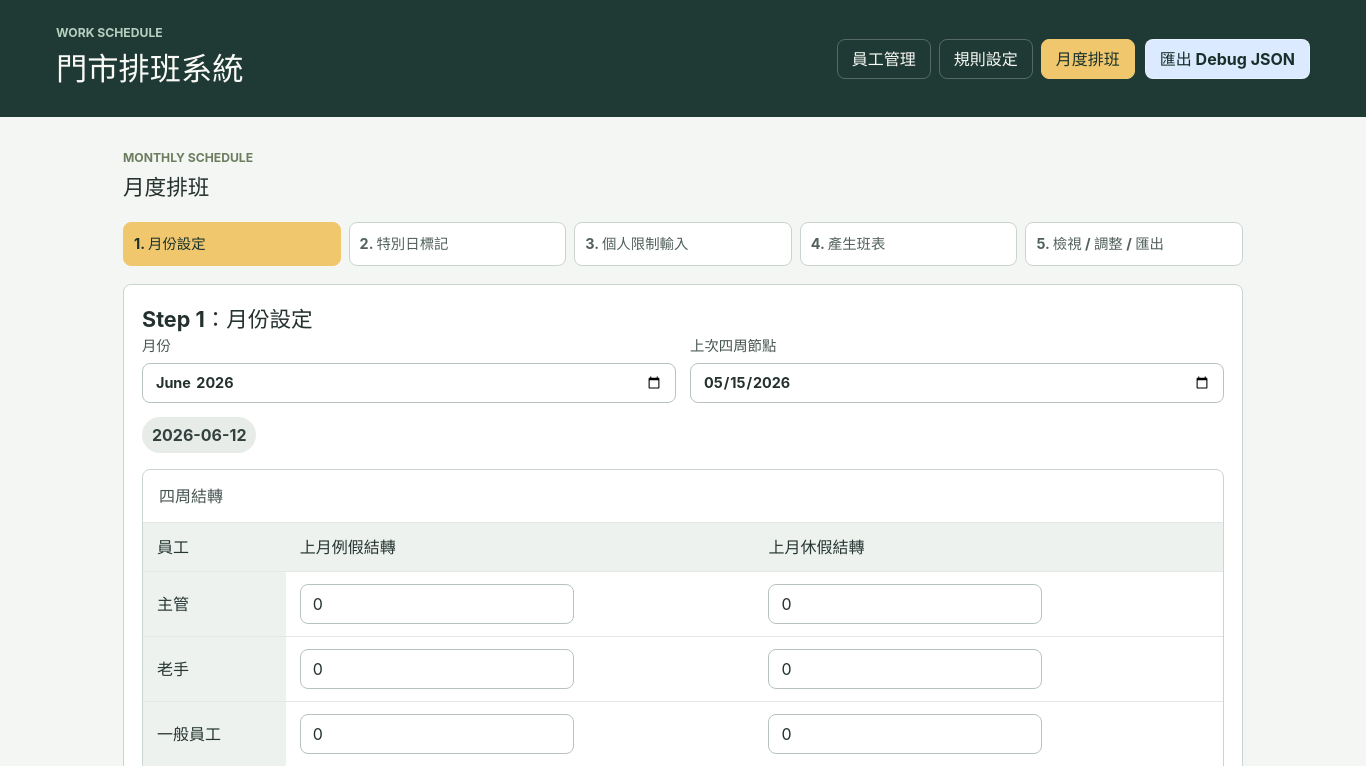
Test: App › opens employee and rule management workspaces from the main navigation
The image size is (1366, 766).
Click the tab "員工管理": (884, 59) left=837, top=39, right=931, bottom=79
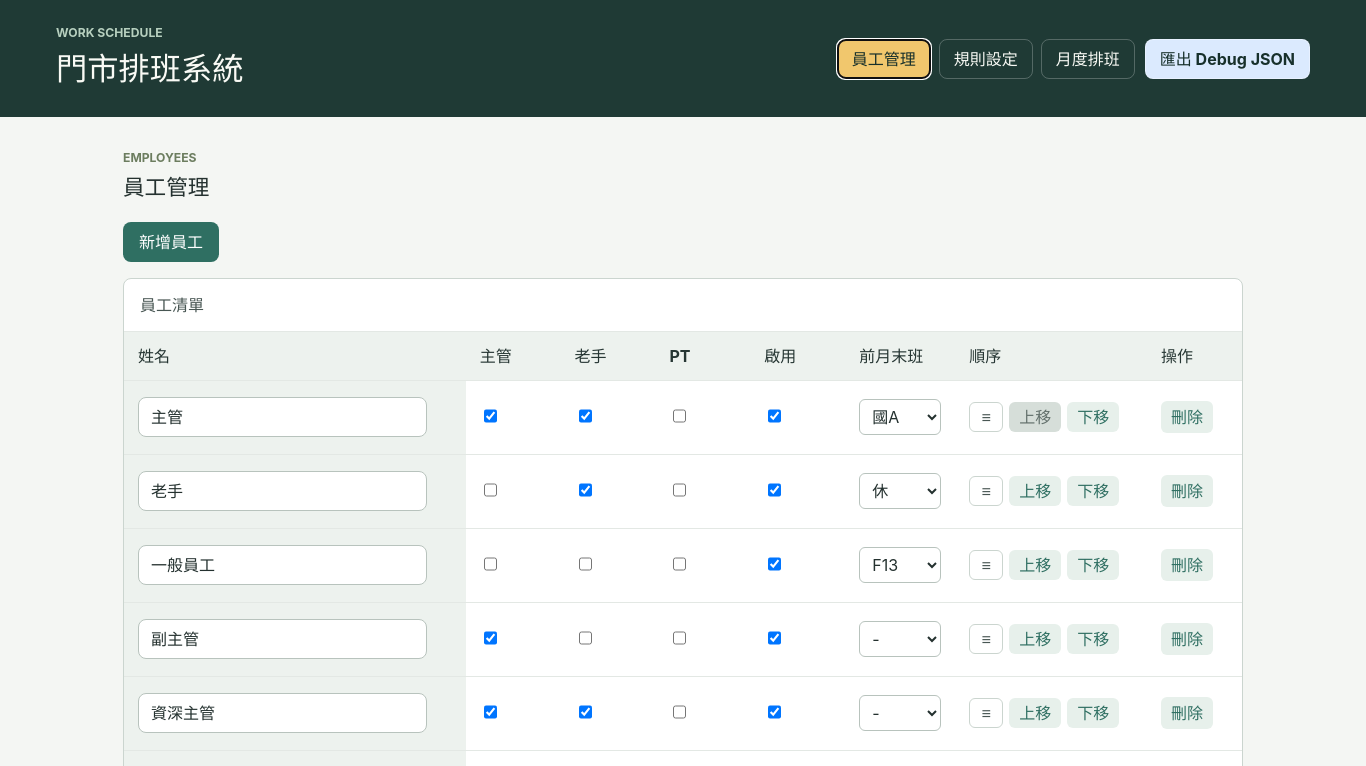
Result: the heading "員工管理" is shown at left=123, top=171, right=209, bottom=204
Result: the button "新增員工" is shown at left=123, top=222, right=219, bottom=262
Click the tab "規則設定": (986, 59) left=939, top=39, right=1033, bottom=79
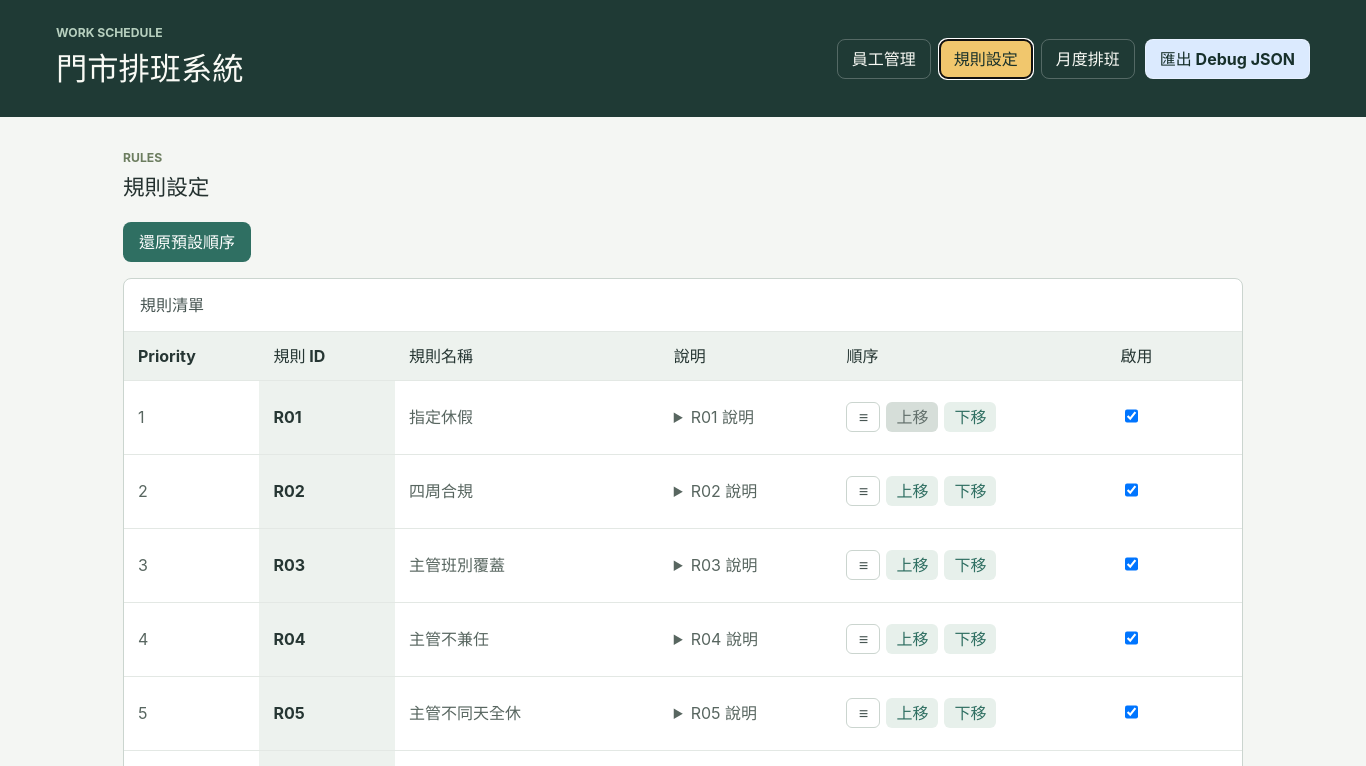
Result: the heading "規則設定" is shown at left=123, top=171, right=209, bottom=204
Result: the button "還原預設順序" is shown at left=123, top=222, right=251, bottom=262
Result: the column heading "R01" is shown at left=260, top=380, right=395, bottom=454
